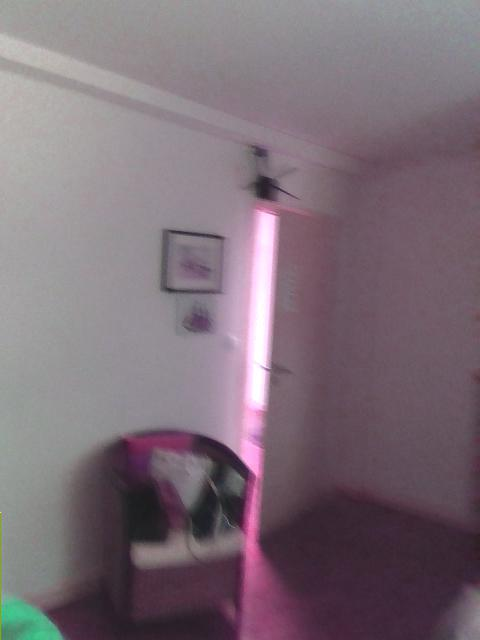semi_door: (233, 196, 341, 546)
